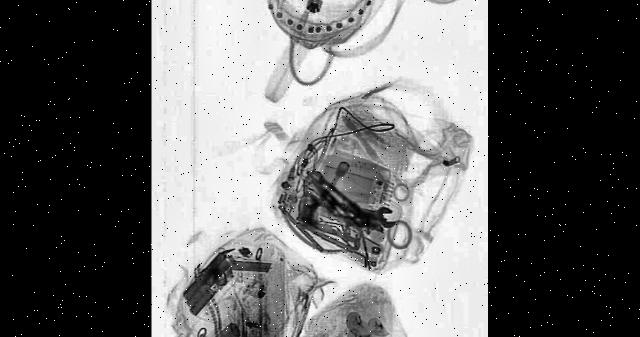Wrench: (308, 166, 361, 216), (349, 206, 396, 230)
